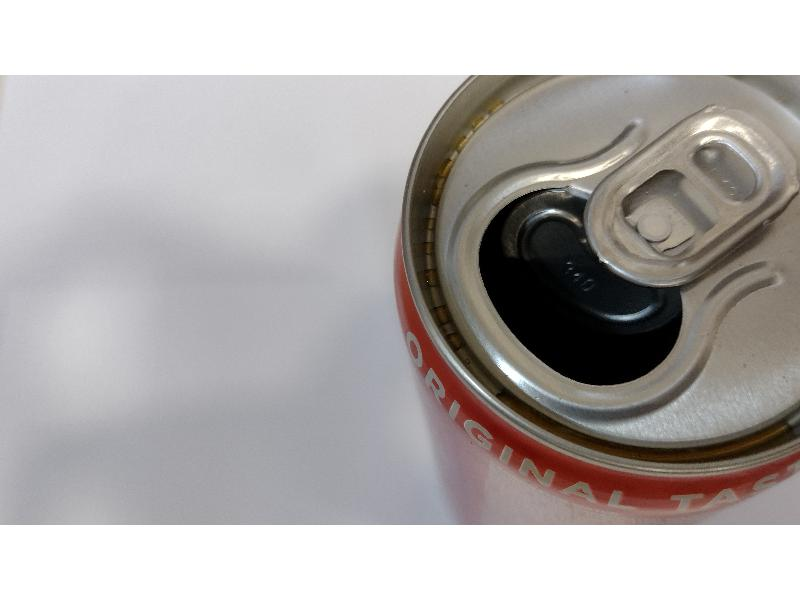can: (388, 75, 800, 522)
